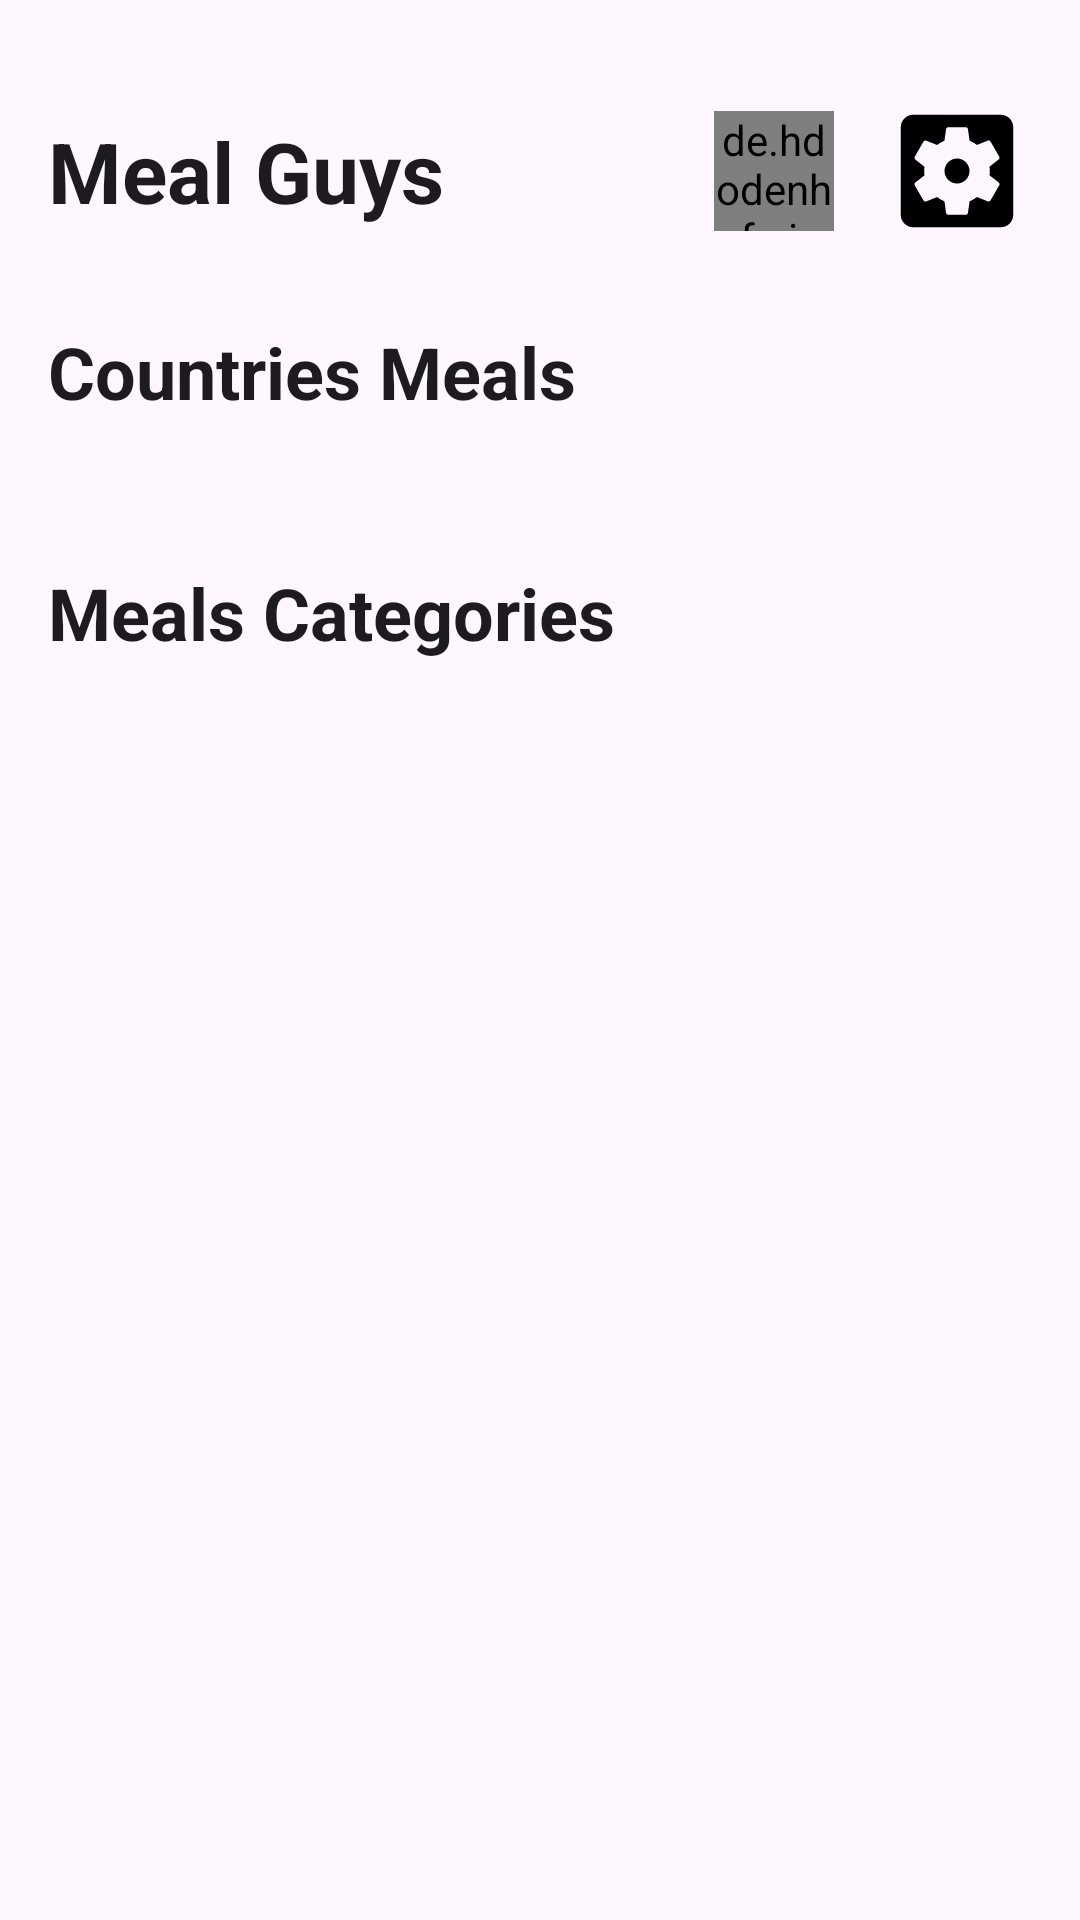

Icons on this 1080w x 1920h Android screen, each with its box as [x1,y1,x2,y2]:
settings applications: [900,114,1014,228]
